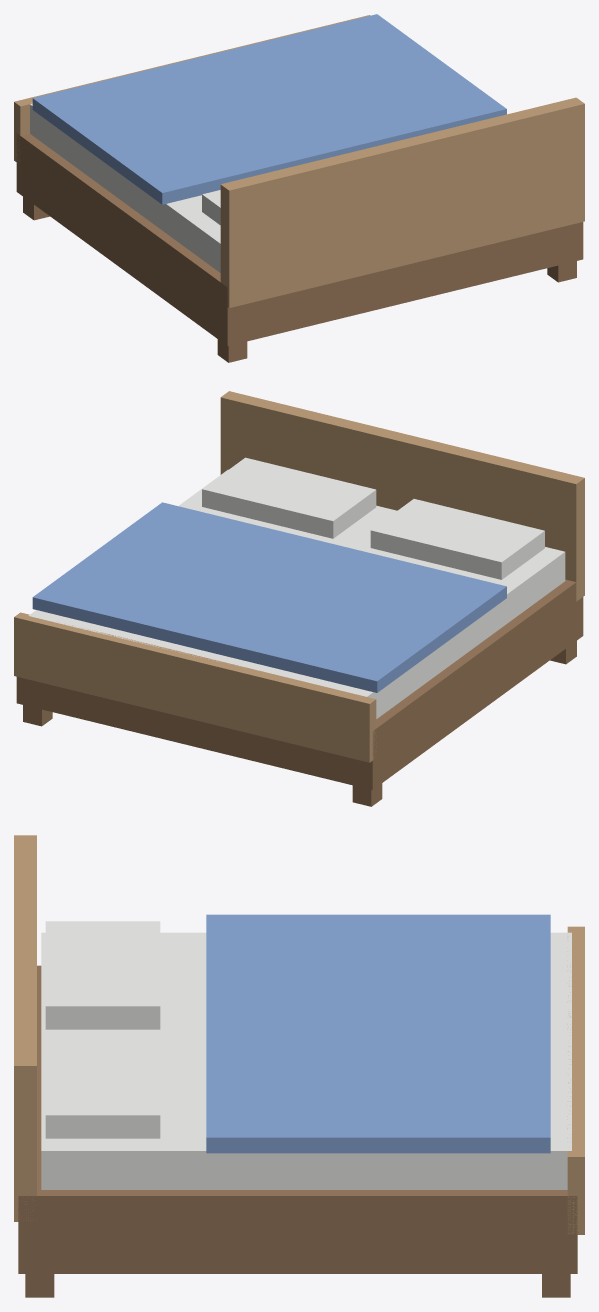
Rendered from bed.glb.
3 renders of one model, top to bottom at view 1: azimuth 30°, elevation 25°; view 2: azimuth 150°, elevation 25°; view 3: azimuth 270°, elevation 25°, orthographic. The views are drawn at different scales.
Parts seen in each view (by area): view 1: bed; view 2: bed; view 3: bed.
Part boxes in pixels (x1,y1,x2,y2): bed: (14, 14, 584, 362); bed: (14, 391, 584, 806); bed: (14, 835, 584, 1297).
Size of the model in its own units: 1.9 by 0.9 by 1.99.
